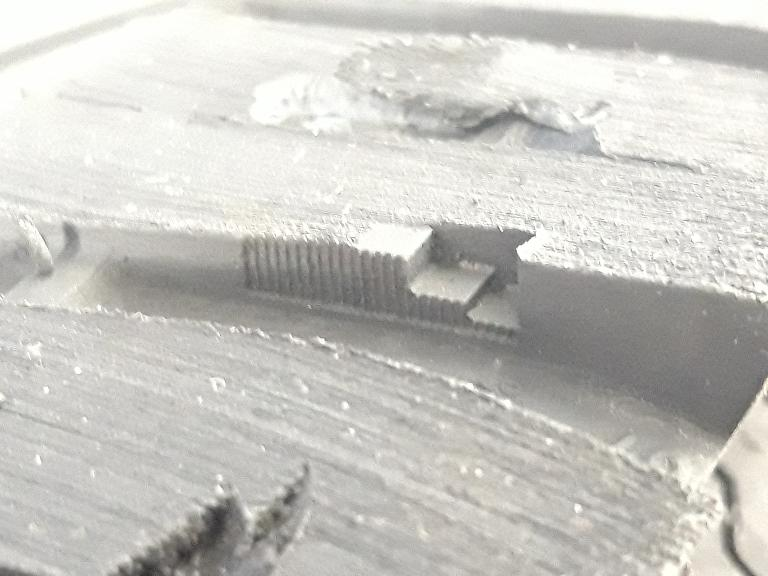temoin:50: (338, 211, 557, 363)
